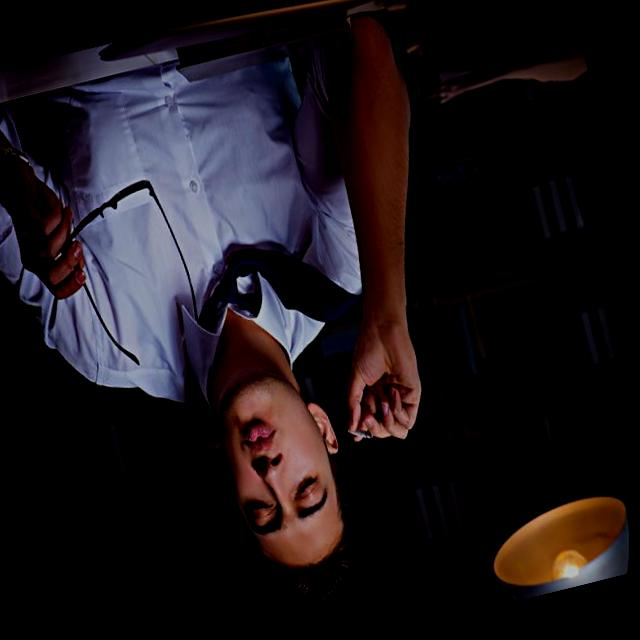cigarette: (343, 418, 378, 448)
